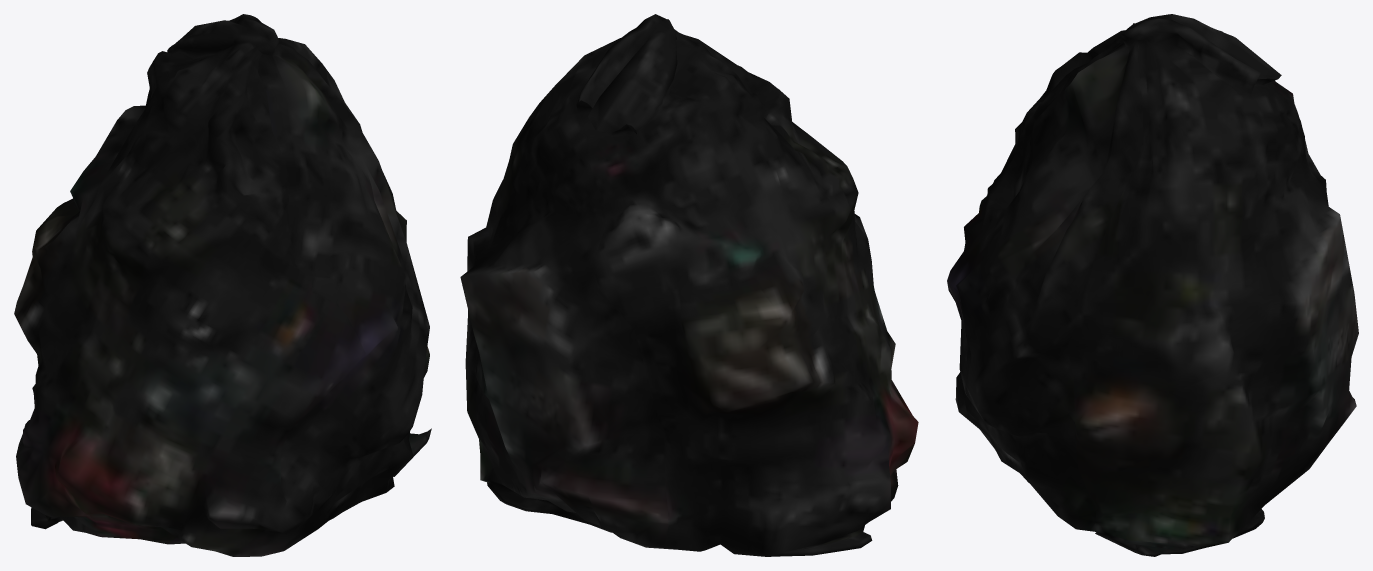
Rendered from trashbag.glb.
The picture shows the model from 3 angles, left to right: view 1: azimuth 30°, elevation 25°; view 2: azimuth 150°, elevation 25°; view 3: azimuth 270°, elevation 25°; orthographic projection. The views are drawn at different scales.
Visible parts, largest first — view 1: trashbag; view 2: trashbag; view 3: trashbag.
Boxes of the visible parts, left/top/right/bottom form: trashbag: left=14, top=14, right=431, bottom=556; trashbag: left=460, top=14, right=918, bottom=556; trashbag: left=947, top=14, right=1358, bottom=556.
Bounding box in the file's own units: 0.5281 × 0.575 × 0.4629.
Materials: 1 (1 with a texture image).
